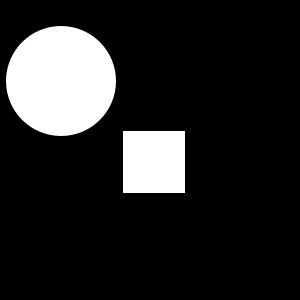circle: (123, 131, 185, 193)
rectangle: (6, 26, 116, 136)
